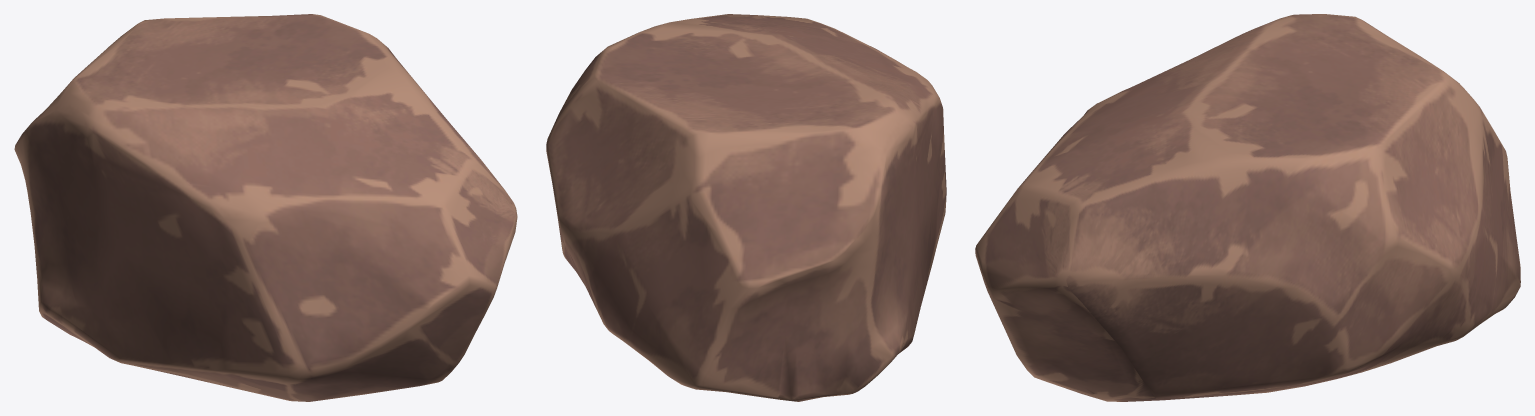
File: Rock_D.FBX
3 renders of one model, left to right at view 1: azimuth 30°, elevation 25°; view 2: azimuth 150°, elevation 25°; view 3: azimuth 270°, elevation 25°, orthographic. The views are drawn at different scales.
Parts seen in each view (by area): view 1: Rock_D; view 2: Rock_D; view 3: Rock_D.
Part boxes in pixels (x1,y1,x2,y2): Rock_D: (14,14,517,401); Rock_D: (546,14,946,401); Rock_D: (975,14,1520,401).
Size of the model in its own units: 116 by 82.08 by 149.
